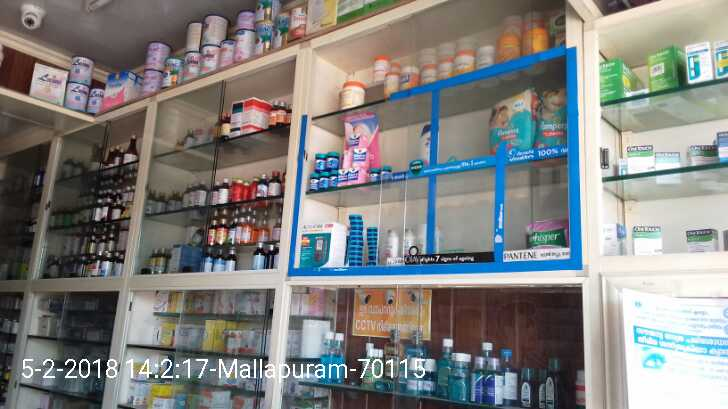oralcare: (381, 327, 403, 380), (408, 330, 425, 356)
vicks: (308, 147, 425, 180), (345, 209, 379, 266)
